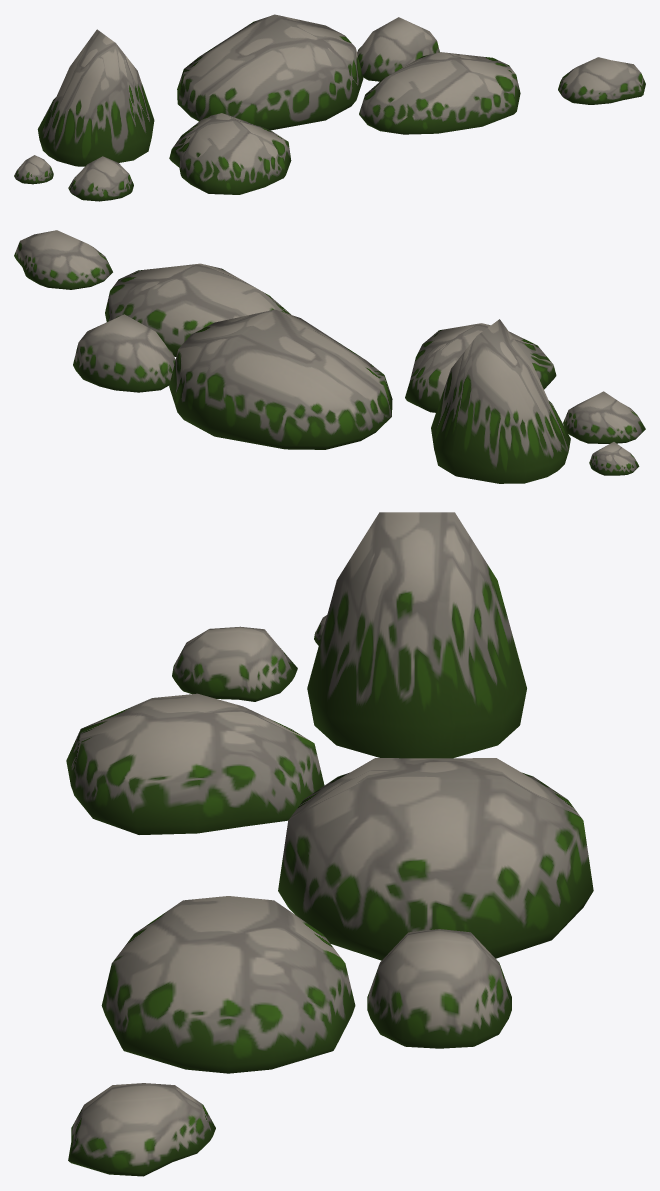
The model's file is Rocks.glb.
3 views of the same model, one above another, from view 1: azimuth 30°, elevation 25°; view 2: azimuth 150°, elevation 25°; view 3: azimuth 270°, elevation 25° (orthographic). The views are drawn at different scales.
Visible parts, largest first — view 1: Rock_05, Rock_03, Rock_06, Rock_04, Rock_07, Rock_08, Rock_02, Rock_01; view 2: Rock_05, Rock_03, Rock_06, Rock_07, Rock_04, Rock_08, Rock_02, Rock_01; view 3: Rock_05, Rock_03, Rock_06, Rock_04, Rock_07, Rock_08, Rock_02.
Part boxes in pixels (x1,y1,x2,y2): Rock_05: [177, 14, 363, 130]; Rock_03: [37, 29, 154, 166]; Rock_06: [359, 52, 520, 134]; Rock_04: [169, 113, 291, 194]; Rock_07: [357, 17, 439, 81]; Rock_08: [558, 57, 645, 104]; Rock_02: [68, 156, 133, 201]; Rock_01: [14, 155, 53, 184]; Rock_05: [169, 309, 392, 449]; Rock_03: [431, 319, 570, 483]; Rock_06: [105, 263, 291, 356]; Rock_07: [73, 314, 175, 392]; Rock_04: [405, 323, 556, 412]; Rock_08: [14, 230, 112, 289]; Rock_02: [563, 391, 645, 443]; Rock_01: [589, 442, 639, 475]; Rock_05: [278, 758, 593, 960]; Rock_03: [307, 512, 526, 758]; Rock_06: [101, 896, 355, 1073]; Rock_04: [66, 693, 324, 834]; Rock_07: [367, 929, 511, 1048]; Rock_08: [68, 1083, 215, 1176]; Rock_02: [172, 626, 297, 701].
Bounding box in the file's own units: 164 × 29.31 × 65.55.
1 material, 1 textured.
